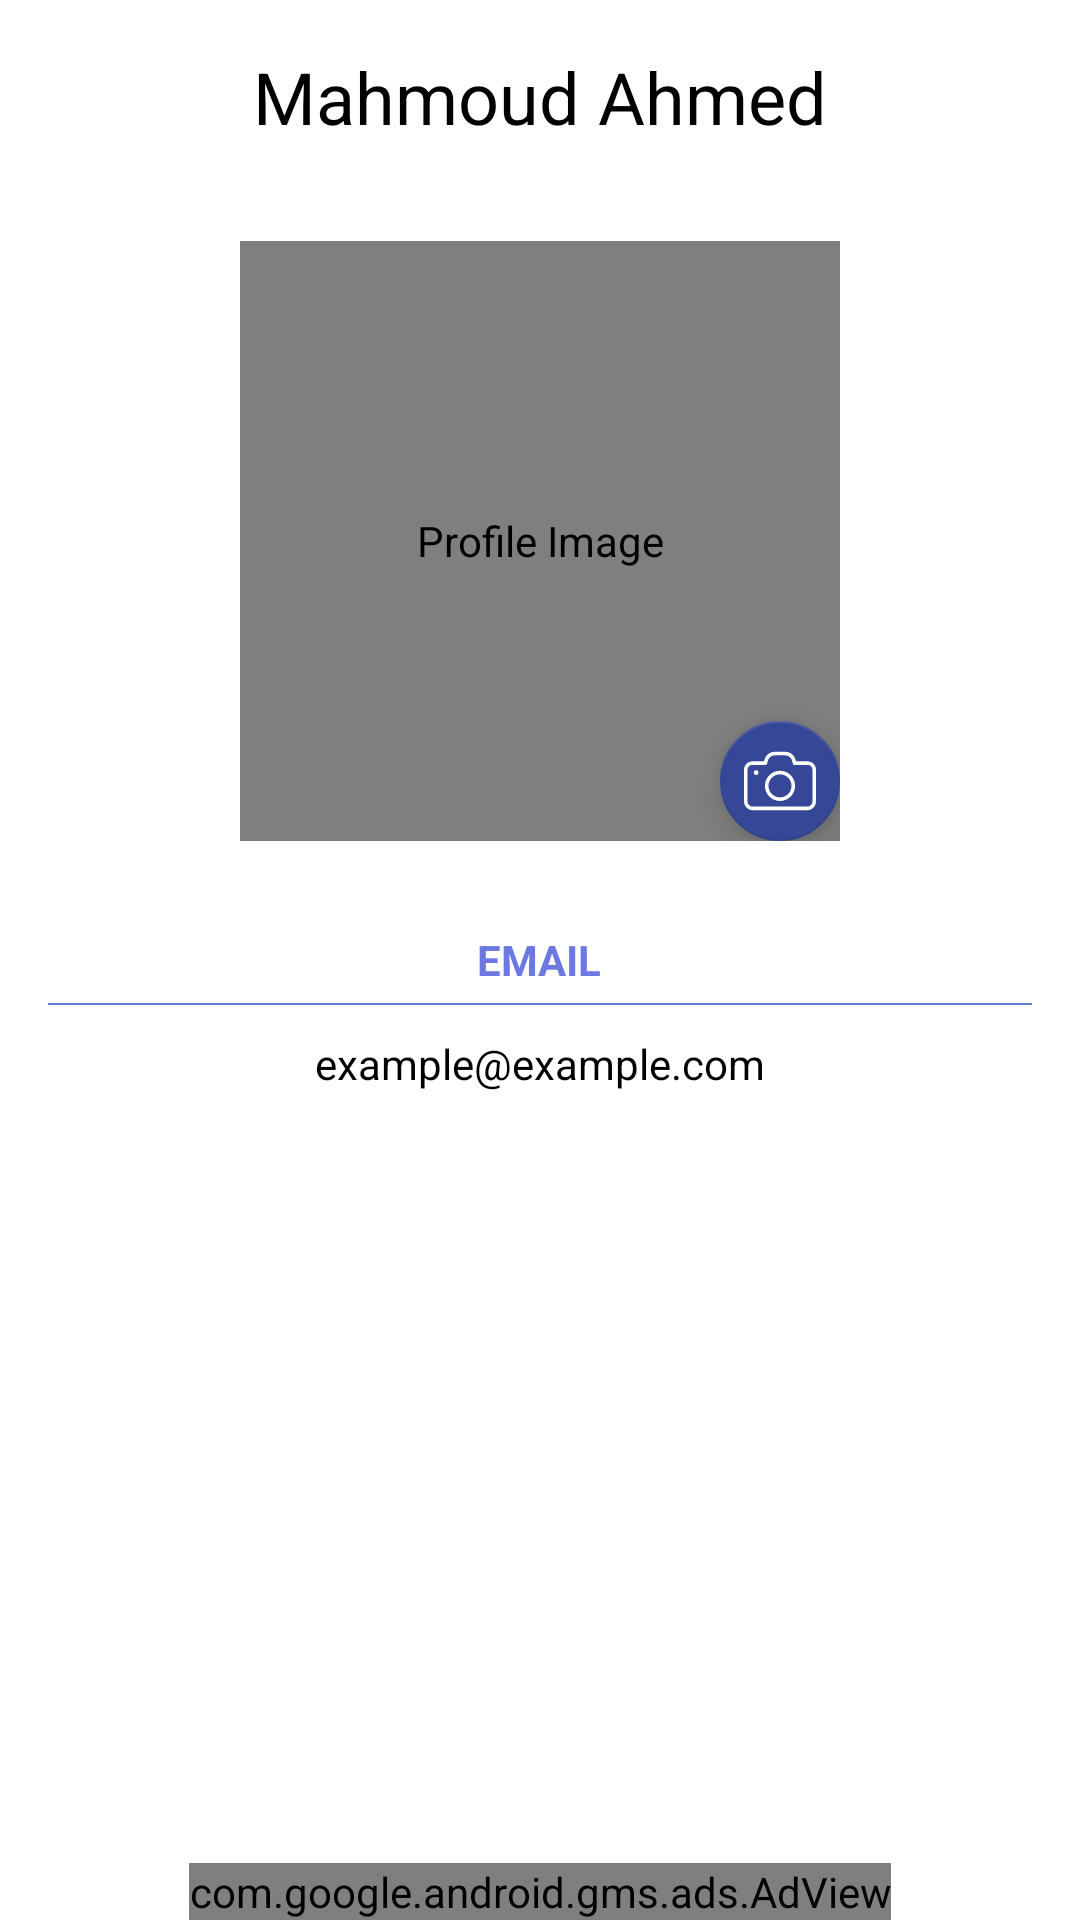

Where to tap for icons on this 1080×1920 app screen, as [x,y]:
Choose image to upload: [780,781]
